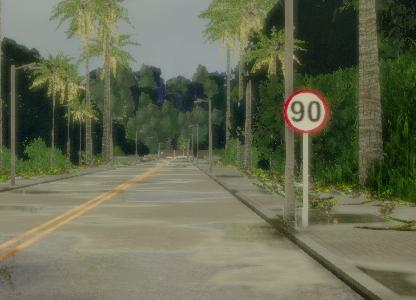Speed_90: (283, 91, 329, 134)
